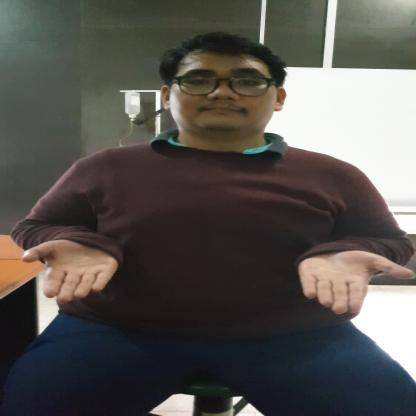Apa: (19, 236, 414, 319)
